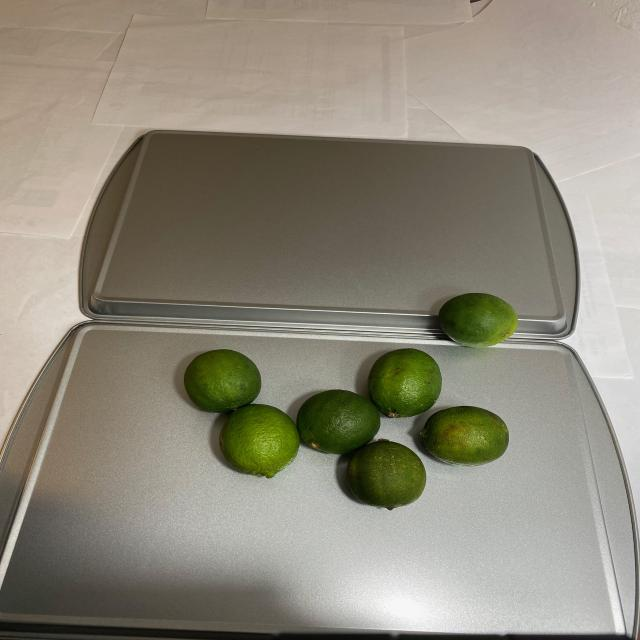lemon: (185, 293, 521, 512)
